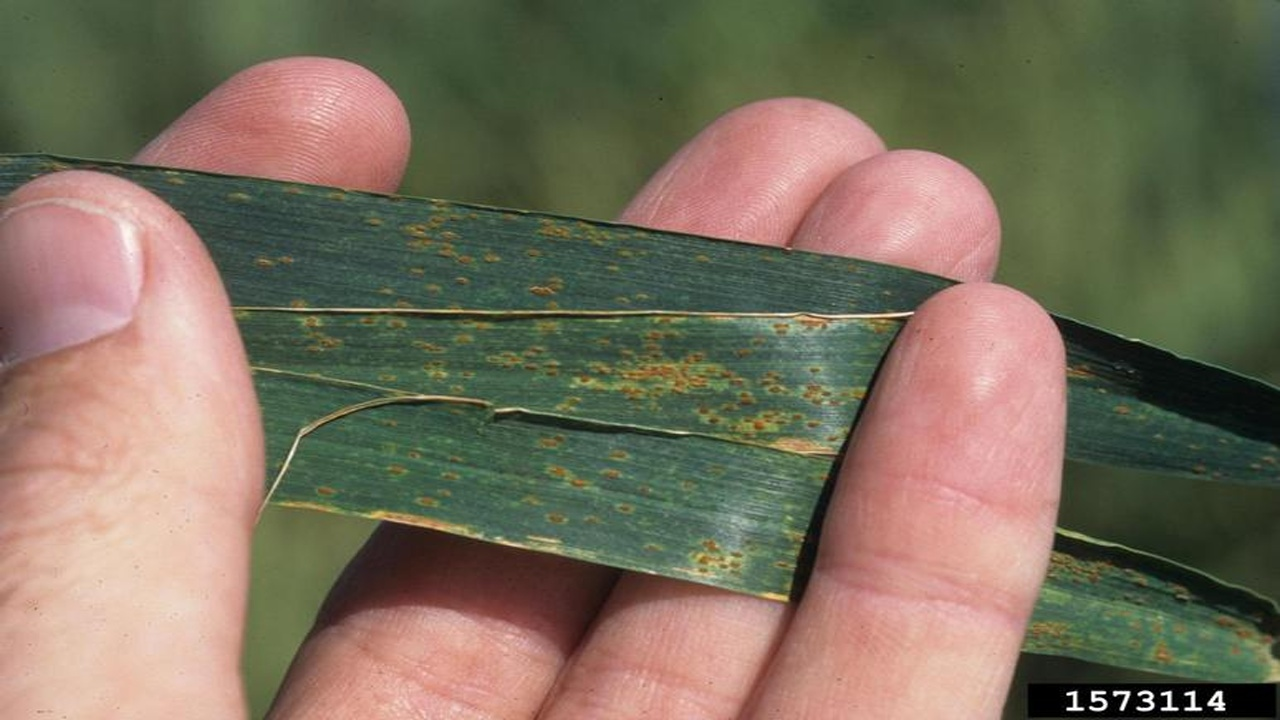leaf_rust: (261, 177, 853, 610)
